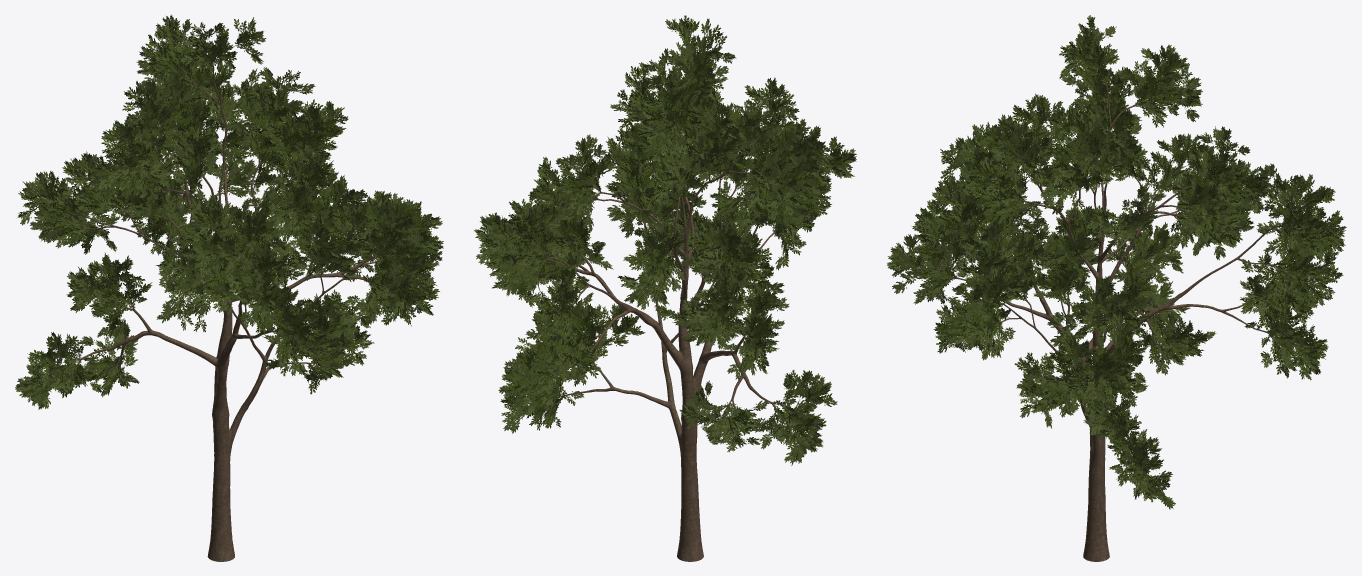
Rendered from SM_Tree_Carolina_Cherry.fbx.
3 renders of one model, left to right at view 1: azimuth 30°, elevation 25°; view 2: azimuth 150°, elevation 25°; view 3: azimuth 270°, elevation 25°, orthographic. The views are drawn at different scales.
Parts seen in each view (by area): view 1: Tree_Carolina_Cherry; view 2: Tree_Carolina_Cherry; view 3: Tree_Carolina_Cherry.
Part boxes in pixels (x1=…): Tree_Carolina_Cherry: x1=15, y1=14, x2=443, y2=561; Tree_Carolina_Cherry: x1=474, y1=15, x2=856, y2=561; Tree_Carolina_Cherry: x1=887, y1=15, x2=1346, y2=561.
Size of the model in its own units: 625 by 842 by 665.
